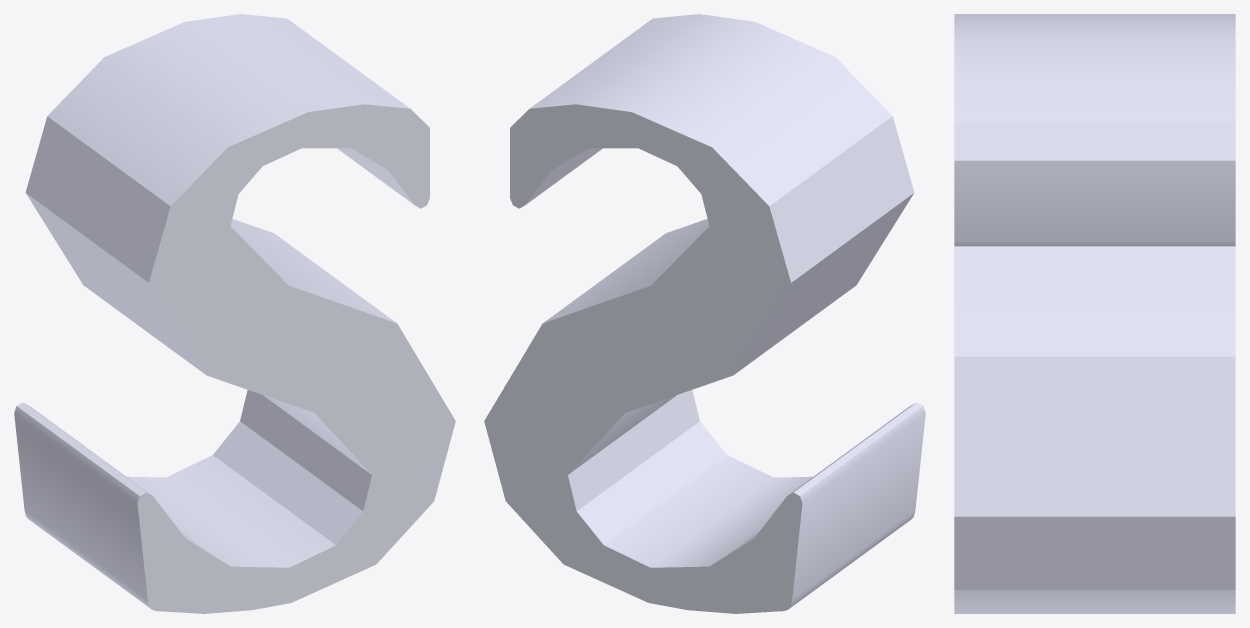
File: S_Soul_Grey.glb
3 views of the same model, side by side, from view 1: azimuth 30°, elevation 25°; view 2: azimuth 150°, elevation 25°; view 3: azimuth 270°, elevation 25° (orthographic). The views are drawn at different scales.
Visible parts, largest first — view 1: s_Soul_Grey; view 2: s_Soul_Grey; view 3: s_Soul_Grey.
Boxes of the visible parts, x1,y1,x2,y2 form: s_Soul_Grey: (14,14,455,613); s_Soul_Grey: (484,14,925,613); s_Soul_Grey: (954,14,1235,613).
Size of what is drawn, in the model's own units: 0.0671 by 0.098 by 0.045.
Materials: 2 (2 with a texture image).
